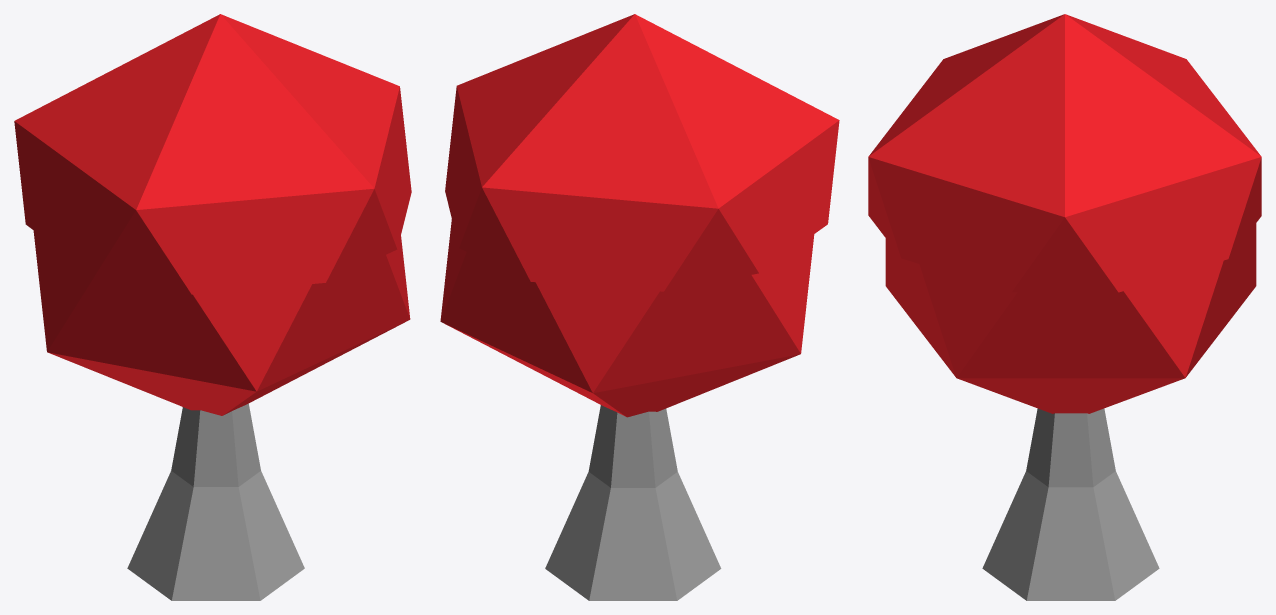
Rendered from SmallBush2.obj.
The picture shows the model from 3 angles, left to right: view 1: azimuth 30°, elevation 25°; view 2: azimuth 150°, elevation 25°; view 3: azimuth 270°, elevation 25°; orthographic projection.
Parts seen in each view (by area): view 1: Cylinder_Cylinder.004; view 2: Cylinder_Cylinder.004; view 3: Cylinder_Cylinder.004.
Part boxes in pixels (x1=…): Cylinder_Cylinder.004: x1=14, y1=14, x2=411, y2=600; Cylinder_Cylinder.004: x1=440, y1=14, x2=839, y2=600; Cylinder_Cylinder.004: x1=868, y1=14, x2=1261, y2=600.
Bounding box in the file's own units: 0.4466 × 0.6784 × 0.4358.
